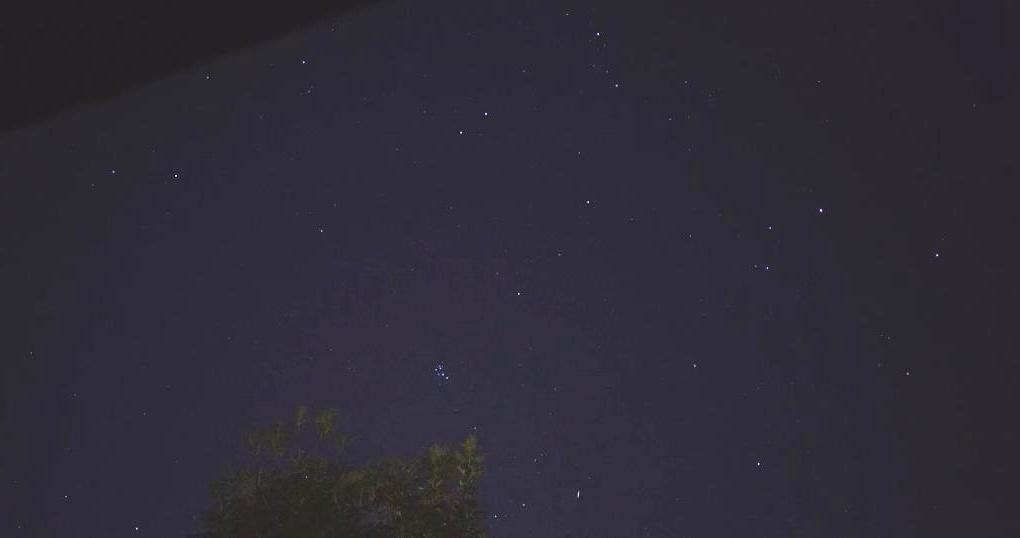meteorite: (565, 485, 592, 502)
